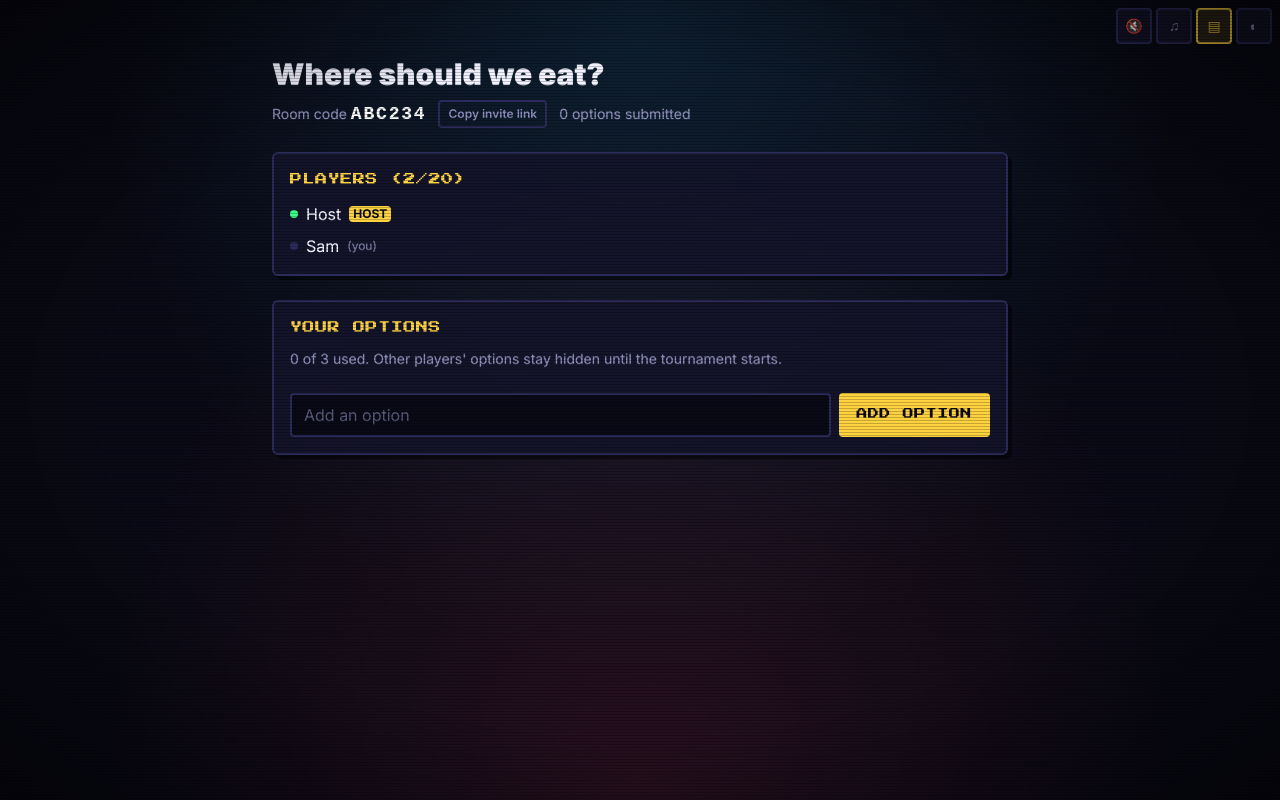
Test case: lobby (guest) › submits an option and refreshes
The image size is (1280, 800).
Type "Pizza" into the field named "your option" at point(560, 415), box [290, 393, 830, 437]
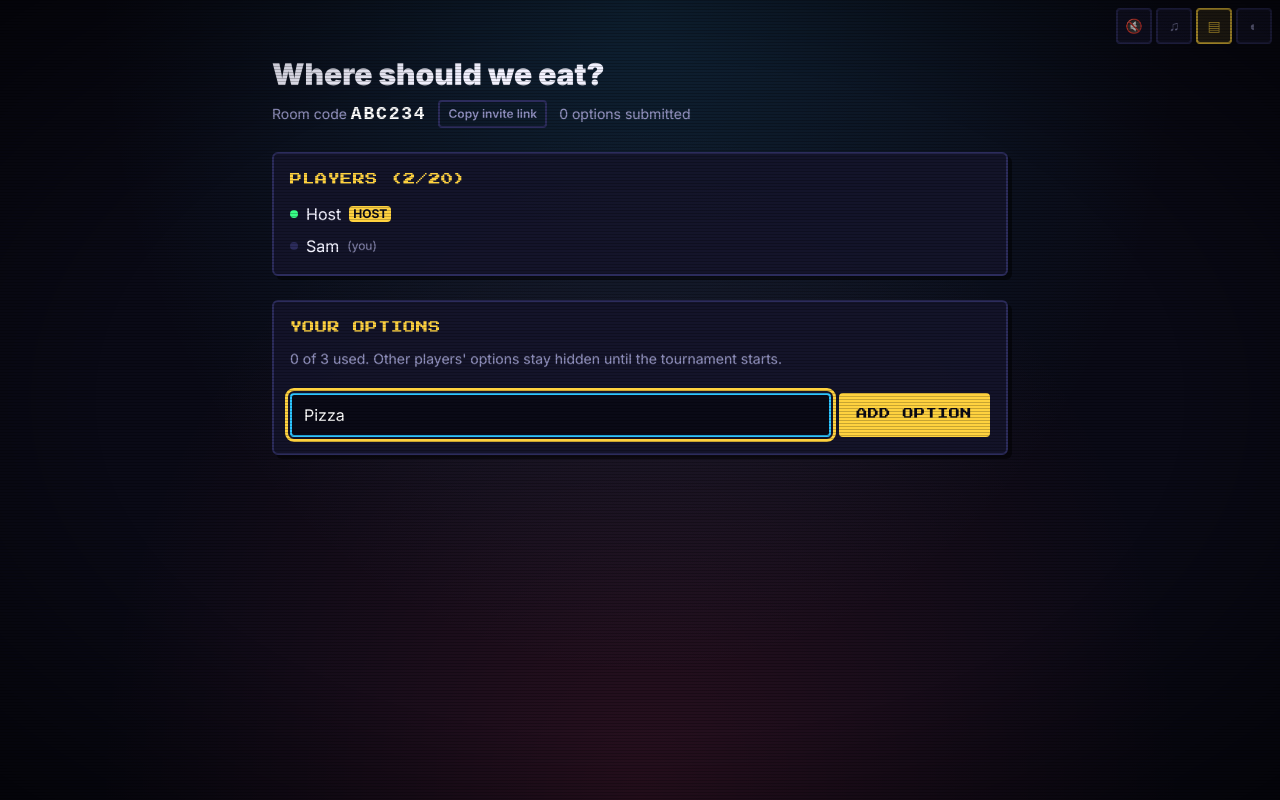
Click the button "Add option" at point(914, 415), box [838, 393, 990, 437]
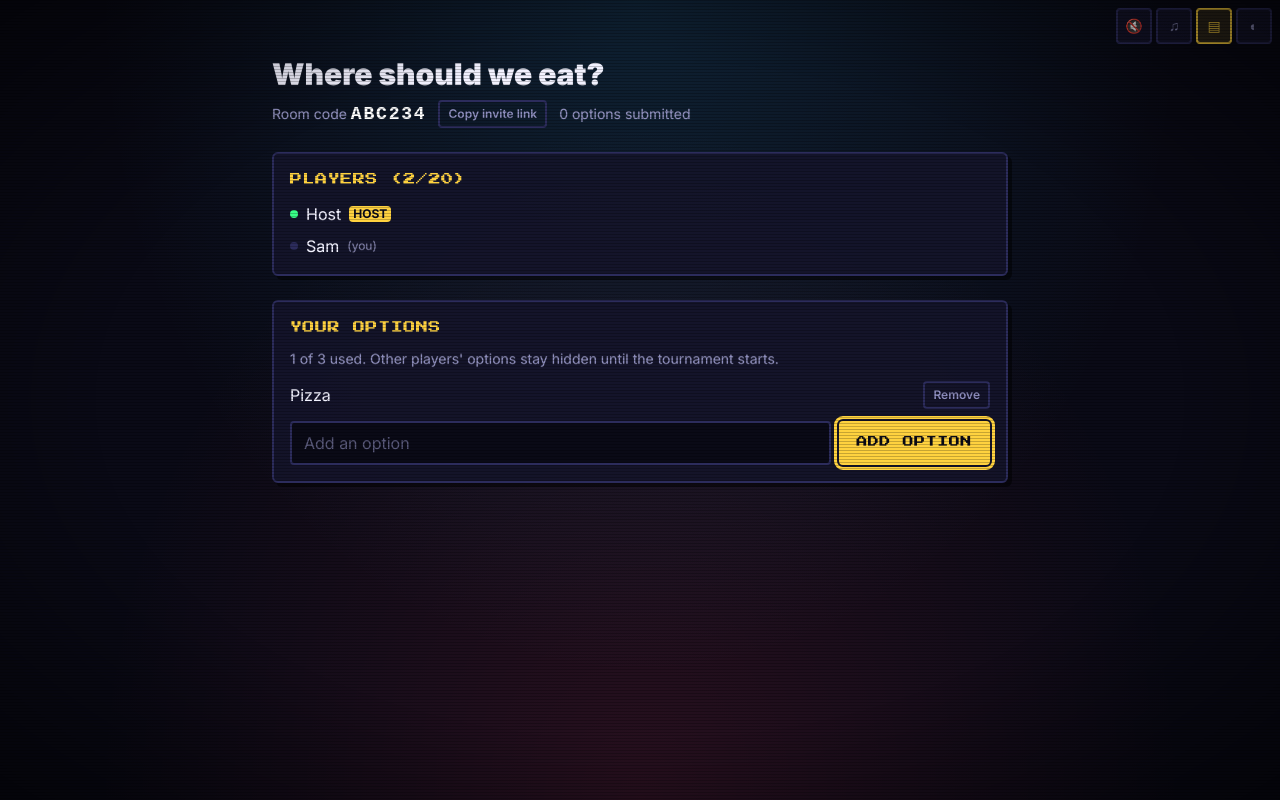
Check: the text "Pizza" is shown, box [290, 383, 331, 407]
Check: the field named "your option" is empty, box [290, 421, 830, 465]
Check: the text "1 of 3 used" is shown, box [290, 350, 779, 367]
